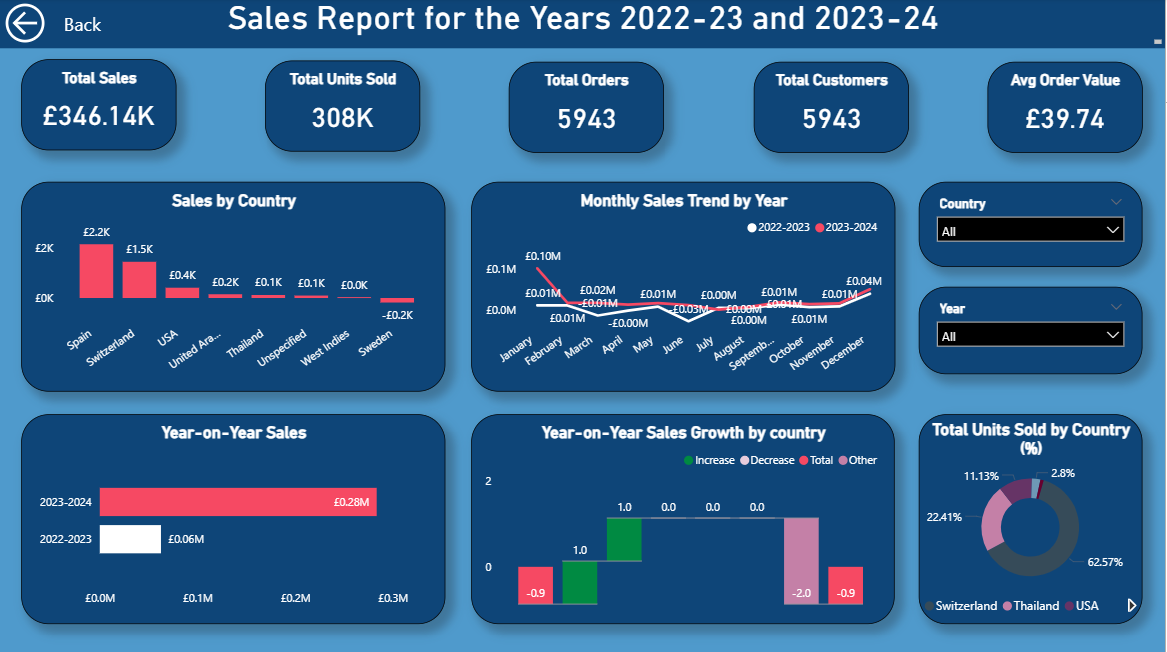

The page's visual inventory and layout, read from the dashboard file:
{"tool":"powerbi","page":{"name":"Sales Analysis Report","canvas":[1280,720],"ordinal":1},"visuals":[{"type":"card","title":"Total Sales ","fields":{"Values":["Fact_Transactions.Total Sales (FT)"]},"box":[23.6,66.7,170,100],"z":0},{"type":"textbox","title":"Sales Report for the Years 2022-23 and 2023-24","box":[0,0,1280.3,55],"z":1000},{"type":"card","title":"Total Customers","fields":{"Values":["Fact_Transactions.Total Customers (FT)"]},"box":[827,69.5,170,100],"z":2000},{"type":"card","title":"Avg Order Value","fields":{"Values":["Fact_Transactions.AOV"]},"box":[1084.1,70,170.2,100.2],"z":3000},{"type":"card","title":"Total Orders","fields":{"Values":["Year 2022-2023.Total Orders"]},"box":[558.7,69.5,170,100],"z":4000},{"type":"card","title":"Total Units Sold","fields":{"Values":["Fact_Transactions.Total Units (FT)"]},"box":[290.5,68.1,170,100],"z":5000},{"type":"lineChart","title":"Monthly Sales Trend by Year","fields":{"Series":["Fact_Transactions.Source Year"],"Y":["Fact_Transactions.Total Sales (FT)"],"Category":["Fact_Transactions.InvoiceDate.Variation.Date Hierarchy.Month"]},"box":[517.2,201.7,465.7,230],"z":6000},{"type":"clusteredColumnChart","title":"Sales by Country","fields":{"Category":["Fact_Transactions.Country"],"Y":["Fact_Transactions.Total Sales (FT)"]},"box":[23.3,201.9,465.7,230],"z":7000},{"type":"clusteredBarChart","title":"Year-on-Year Sales","fields":{"Category":["Fact_Transactions.Source Year"],"Y":["Fact_Transactions.Total Sales (FT)","select"]},"box":[23.3,457.6,465.7,230],"z":8000},{"type":"donutChart","title":"Total Units Sold  by Country (%)","fields":{"Category":["Fact_Transactions.Country"],"Y":["Fact_Transactions.Total Units (FT)"]},"box":[1009.1,457.1,245.6,230.5],"z":9000},{"type":"slicer","fields":{"Values":["Fact_Transactions.Country"]},"box":[1009.1,201.9,245.6,93.3],"z":10000},{"type":"slicer","fields":{"Values":["Fact_Transactions.Source Year"]},"box":[1009.1,317.2,245.6,96.1],"z":11000},{"type":"waterfallChart","title":"Year-on-Year Sales Growth by country","fields":{"Category":["Fact_Transactions.Source Year"],"Y":["Fact_Transactions.Sales Growth %"],"Breakdown":["Fact_Transactions.Country"]},"box":[517.8,457.1,465.2,230.5],"z":12000},{"type":"actionButton","box":[0,0,114.9,55],"z":13000}]}

Visuals, with their boxes in screenshot pixels (x1, y1, x2, y2), scaled from the page's 1280x720 canvas onto the 1167x652 screenshot:
"Total Sales " card: box=[22, 60, 177, 151]
"Sales Report for the Years 2022-23 and 2023-24" textbox: box=[0, 0, 1166, 50]
"Total Customers" card: box=[754, 63, 909, 153]
"Avg Order Value" card: box=[988, 63, 1144, 154]
"Total Orders" card: box=[509, 63, 664, 153]
"Total Units Sold" card: box=[265, 62, 420, 152]
"Monthly Sales Trend by Year" lineChart: box=[472, 183, 896, 391]
"Sales by Country" clusteredColumnChart: box=[21, 183, 446, 391]
"Year-on-Year Sales" clusteredBarChart: box=[21, 414, 446, 623]
"Total Units Sold  by Country (%)" donutChart: box=[920, 414, 1144, 623]
slicer - Fact_Transactions.Country: box=[920, 183, 1144, 267]
slicer - Fact_Transactions.Source Year: box=[920, 287, 1144, 374]
"Year-on-Year Sales Growth by country" waterfallChart: box=[472, 414, 896, 623]
actionButton: box=[0, 0, 105, 50]
